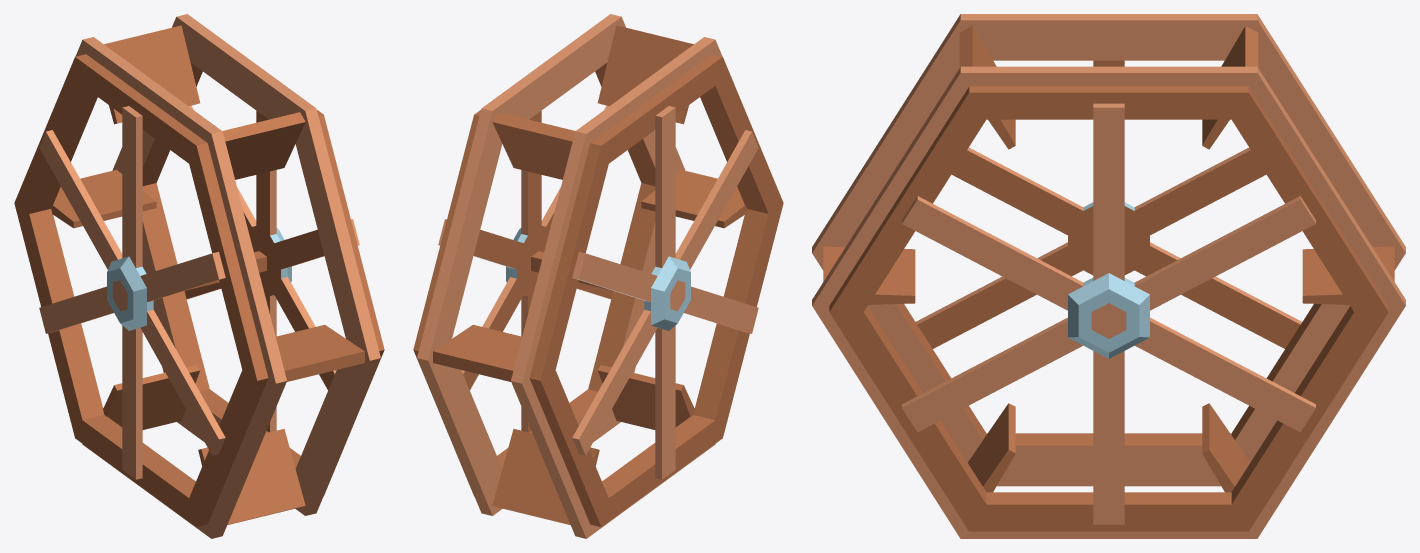
The model's file is watermill.obj.
The picture shows the model from 3 angles, left to right: view 1: azimuth 30°, elevation 25°; view 2: azimuth 150°, elevation 25°; view 3: azimuth 270°, elevation 25°; orthographic projection. The views are drawn at different scales.
Parts seen in each view (by area): view 1: watermill, paddle; view 2: watermill, paddle; view 3: watermill, paddle.
Part boxes in pixels (x1=…): watermill: x1=14, y1=14, x2=384, y2=538; paddle: x1=51, y1=25, x2=364, y2=524; watermill: x1=413, y1=14, x2=783, y2=538; paddle: x1=433, y1=25, x2=746, y2=524; watermill: x1=812, y1=14, x2=1405, y2=538; paddle: x1=823, y1=26, x2=1394, y2=492.
Bounding box in the file's own units: 0.71 × 1.73 × 2.
